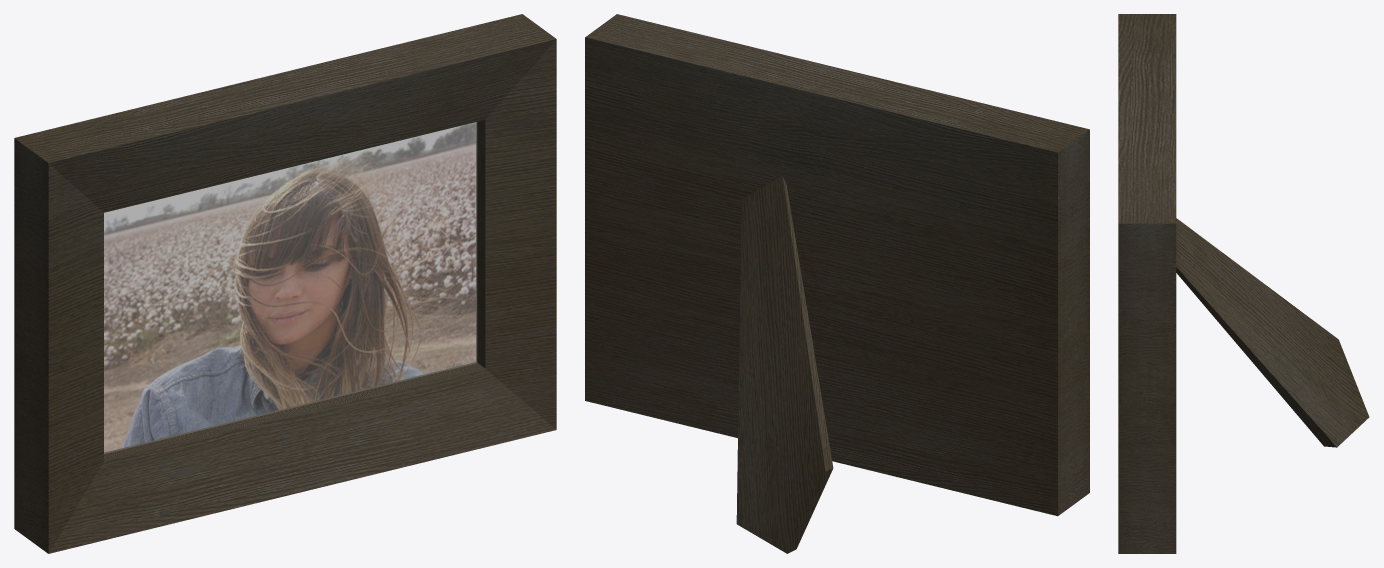
The model's file is Picture_Frame_02.fbx.
3 views of the same model, side by side, from view 1: azimuth 30°, elevation 25°; view 2: azimuth 150°, elevation 25°; view 3: azimuth 270°, elevation 25° (orthographic). The views are drawn at different scales.
Parts seen in each view (by area): view 1: Frame_02, Crystal; view 2: Frame_02; view 3: Frame_02.
Part boxes in pixels (bbox=[...]): Frame_02: bbox=[14, 14, 556, 553]; Crystal: bbox=[104, 122, 476, 453]; Frame_02: bbox=[585, 14, 1089, 553]; Frame_02: bbox=[1118, 14, 1369, 553].
Size of the model in its own units: 0.1837 by 0.135 by 0.093.
Materials: 2 (1 with a texture image).
